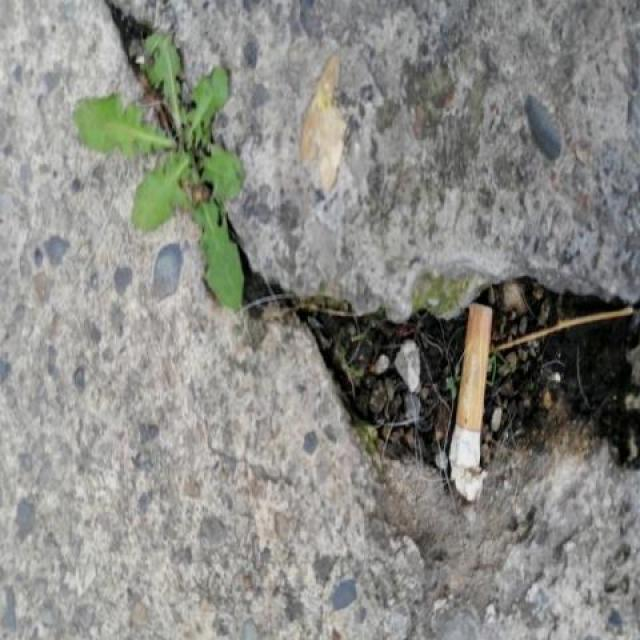non-organic waste: (444, 297, 493, 507)
